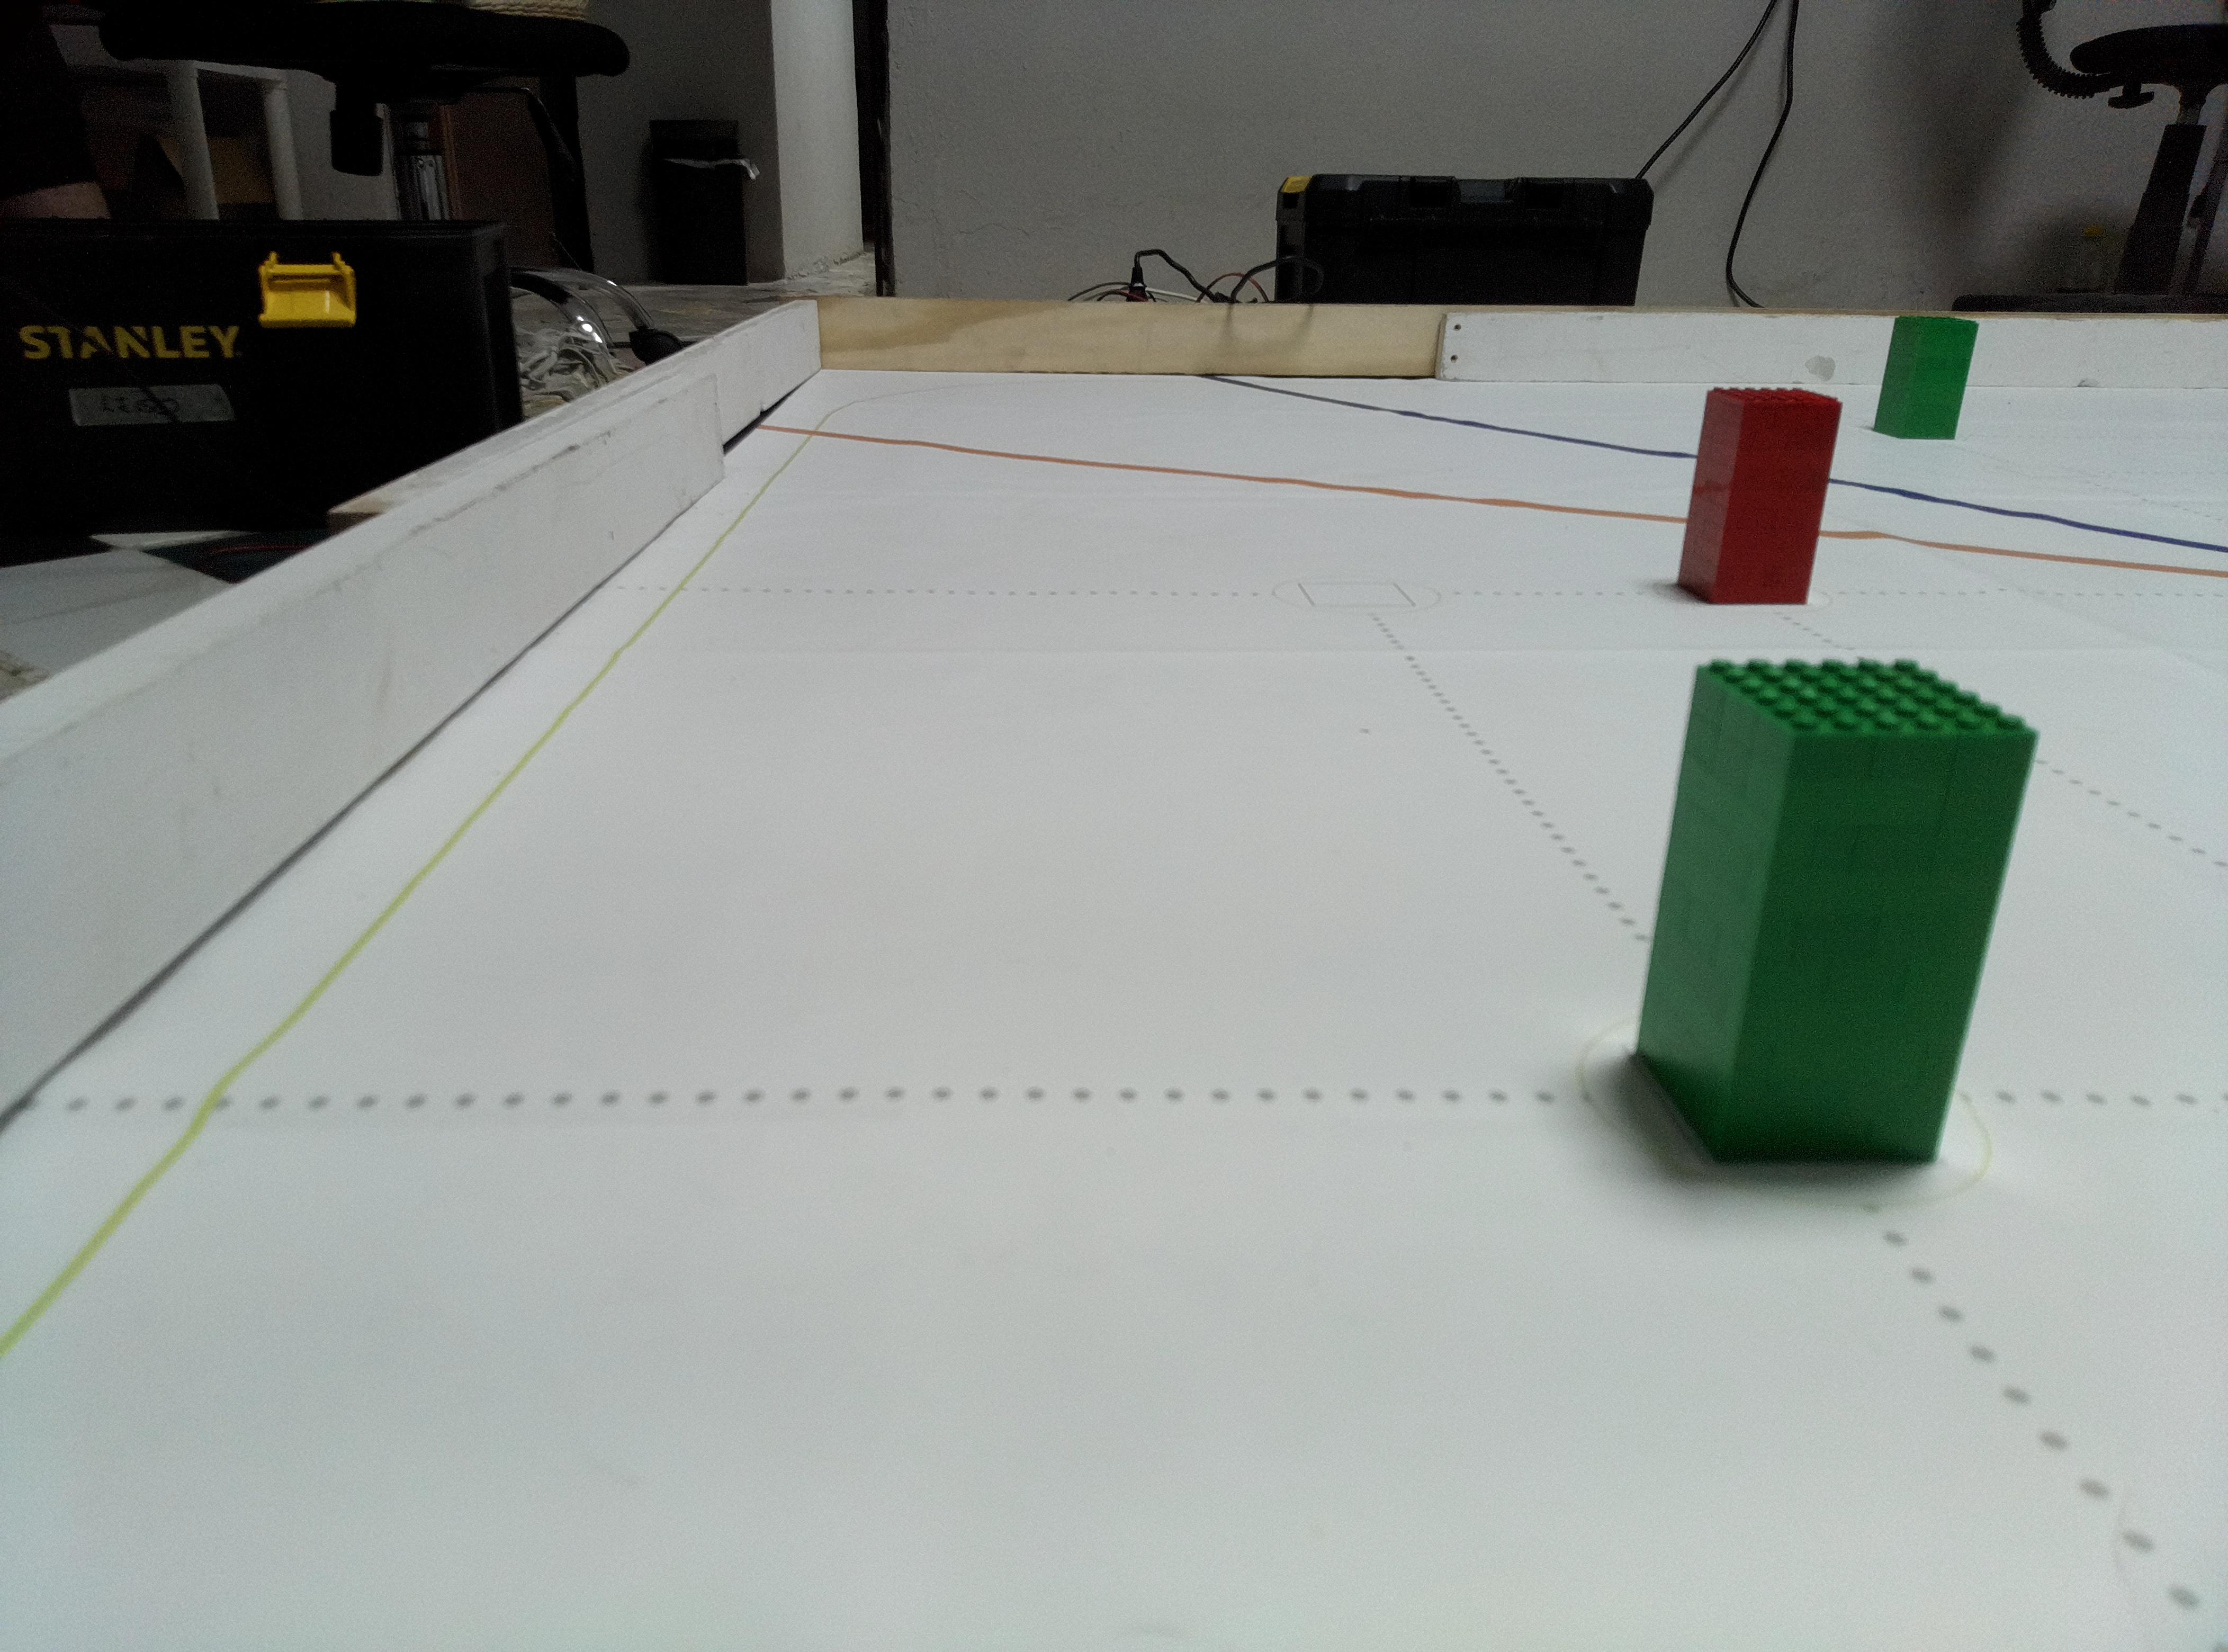greenbox: (1628, 654, 2041, 1171), (1872, 314, 1982, 441)
redbox: (1673, 387, 1845, 607)
